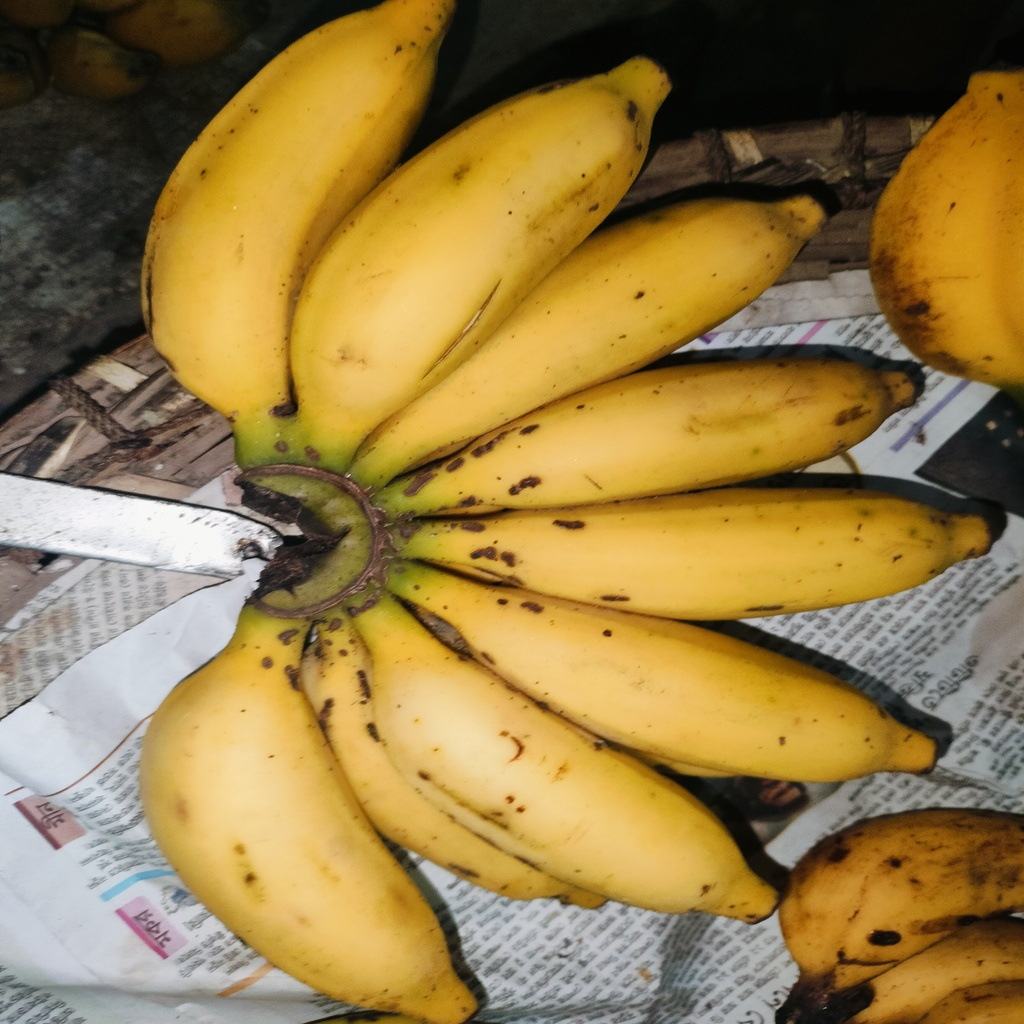healthy: (289, 57, 671, 423), (141, 1, 451, 417)
unhealthy: (143, 652, 477, 1017), (368, 635, 779, 919), (412, 289, 923, 513), (438, 572, 932, 774), (416, 485, 981, 602)
